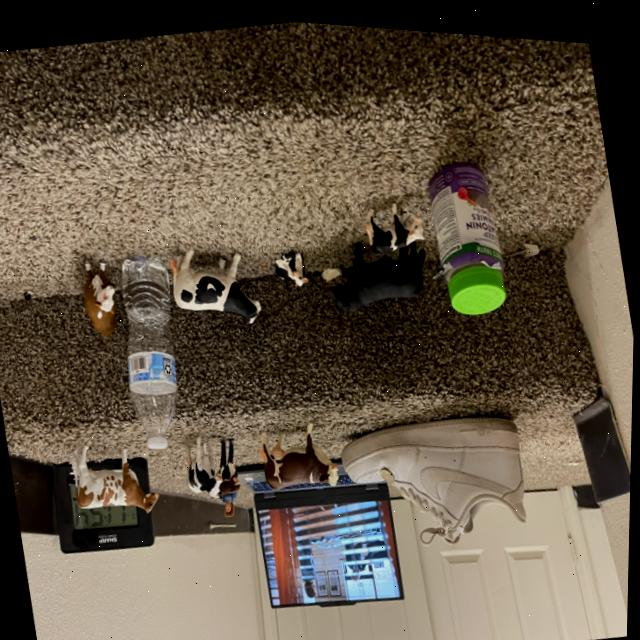cow: (318, 221, 436, 310), (169, 245, 265, 318), (258, 413, 342, 490), (73, 443, 163, 511), (361, 191, 427, 251), (184, 431, 227, 497), (83, 259, 118, 335), (272, 245, 311, 287)
